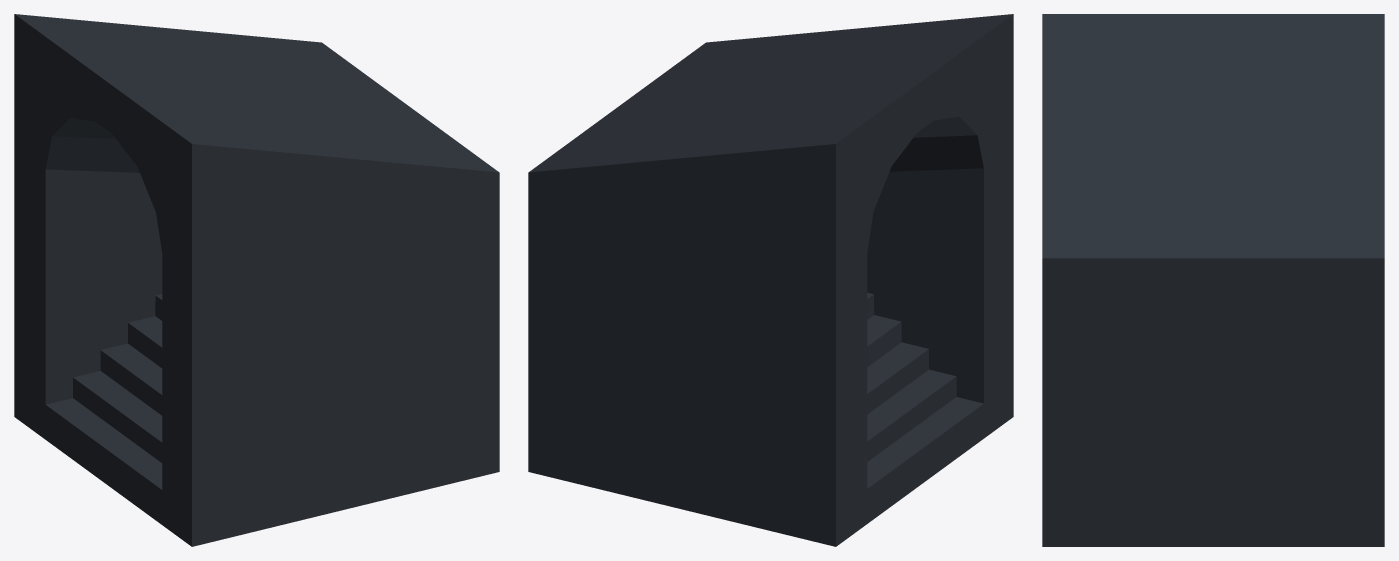
File: exit.fbx
3 renders of one model, left to right at view 1: azimuth 30°, elevation 25°; view 2: azimuth 150°, elevation 25°; view 3: azimuth 270°, elevation 25°, orthographic. The views are drawn at different scales.
Visible parts, largest first — view 1: Cube.001; view 2: Cube.001; view 3: Cube.001.
Boxes of the visible parts, box(x1,y1,x2,y2) form: Cube.001: box(14, 14, 499, 546); Cube.001: box(528, 14, 1013, 546); Cube.001: box(1042, 14, 1384, 546).
Bounding box in the file's own units: 200 × 250 × 200.
1 material, 1 textured.
